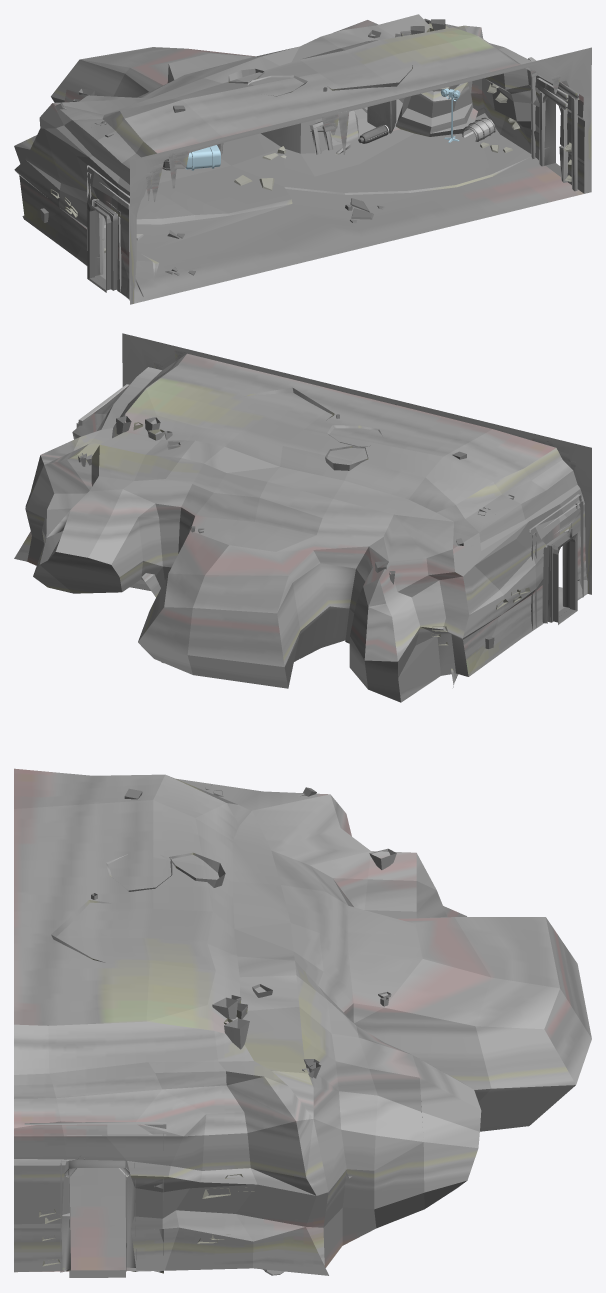
The model's file is MSH_QuestCave_L5_R2_optimized.fbx.
The picture shows the model from 3 angles, top to bottom: view 1: azimuth 30°, elevation 25°; view 2: azimuth 150°, elevation 25°; view 3: azimuth 270°, elevation 25°; orthographic projection. The views are drawn at different scales.
Parts seen in each view (by area): view 1: lightmap1, lightmap0; view 2: lightmap1, lightmap0; view 3: lightmap1, lightmap0.
Part boxes in pixels (bbox=[...]): lightmap1: bbox=[14, 14, 591, 304]; lightmap0: bbox=[22, 18, 571, 275]; lightmap1: bbox=[14, 333, 591, 702]; lightmap0: bbox=[78, 414, 530, 687]; lightmap1: bbox=[14, 768, 591, 1277]; lightmap0: bbox=[39, 785, 396, 1266].
Bounding box in the file's own units: 20.65 × 6.59 × 14.94.
